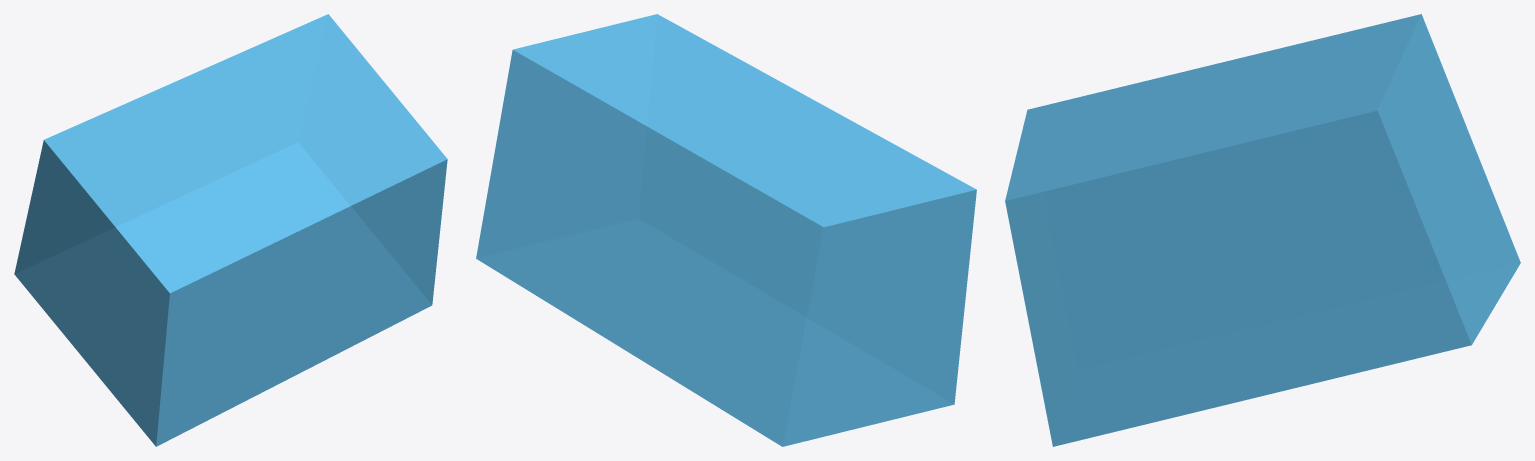
The model's file is Event_421364160_HErechit_37.fbx.
3 renders of one model, left to right at view 1: azimuth 30°, elevation 25°; view 2: azimuth 150°, elevation 25°; view 3: azimuth 270°, elevation 25°, orthographic. The views are drawn at different scales.
Visible parts, largest first — view 1: Model; view 2: Model; view 3: Model.
Boxes of the visible parts, x1=… form: Model: x1=14, y1=14, x2=447, y2=446; Model: x1=476, y1=14, x2=976, y2=446; Model: x1=1005, y1=14, x2=1520, y2=446.
Bounding box in the file's own units: 0.6443 × 0.6766 × 0.6811.
